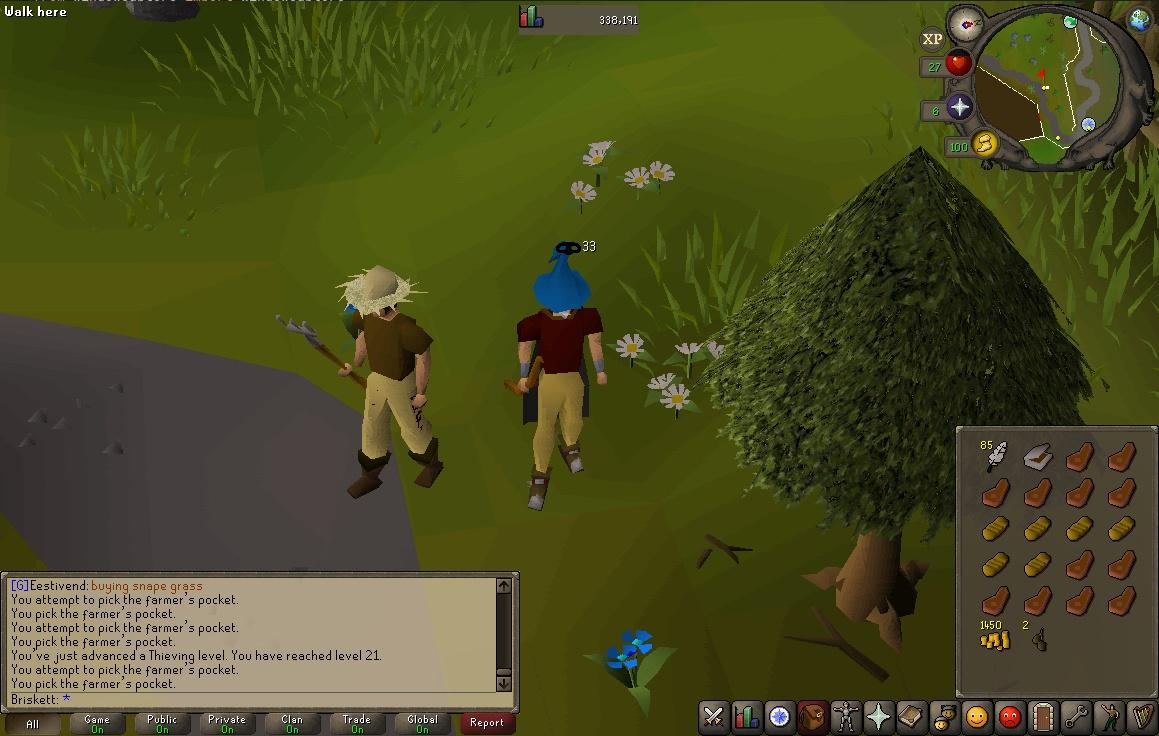Farmer: (337, 265, 445, 500)
